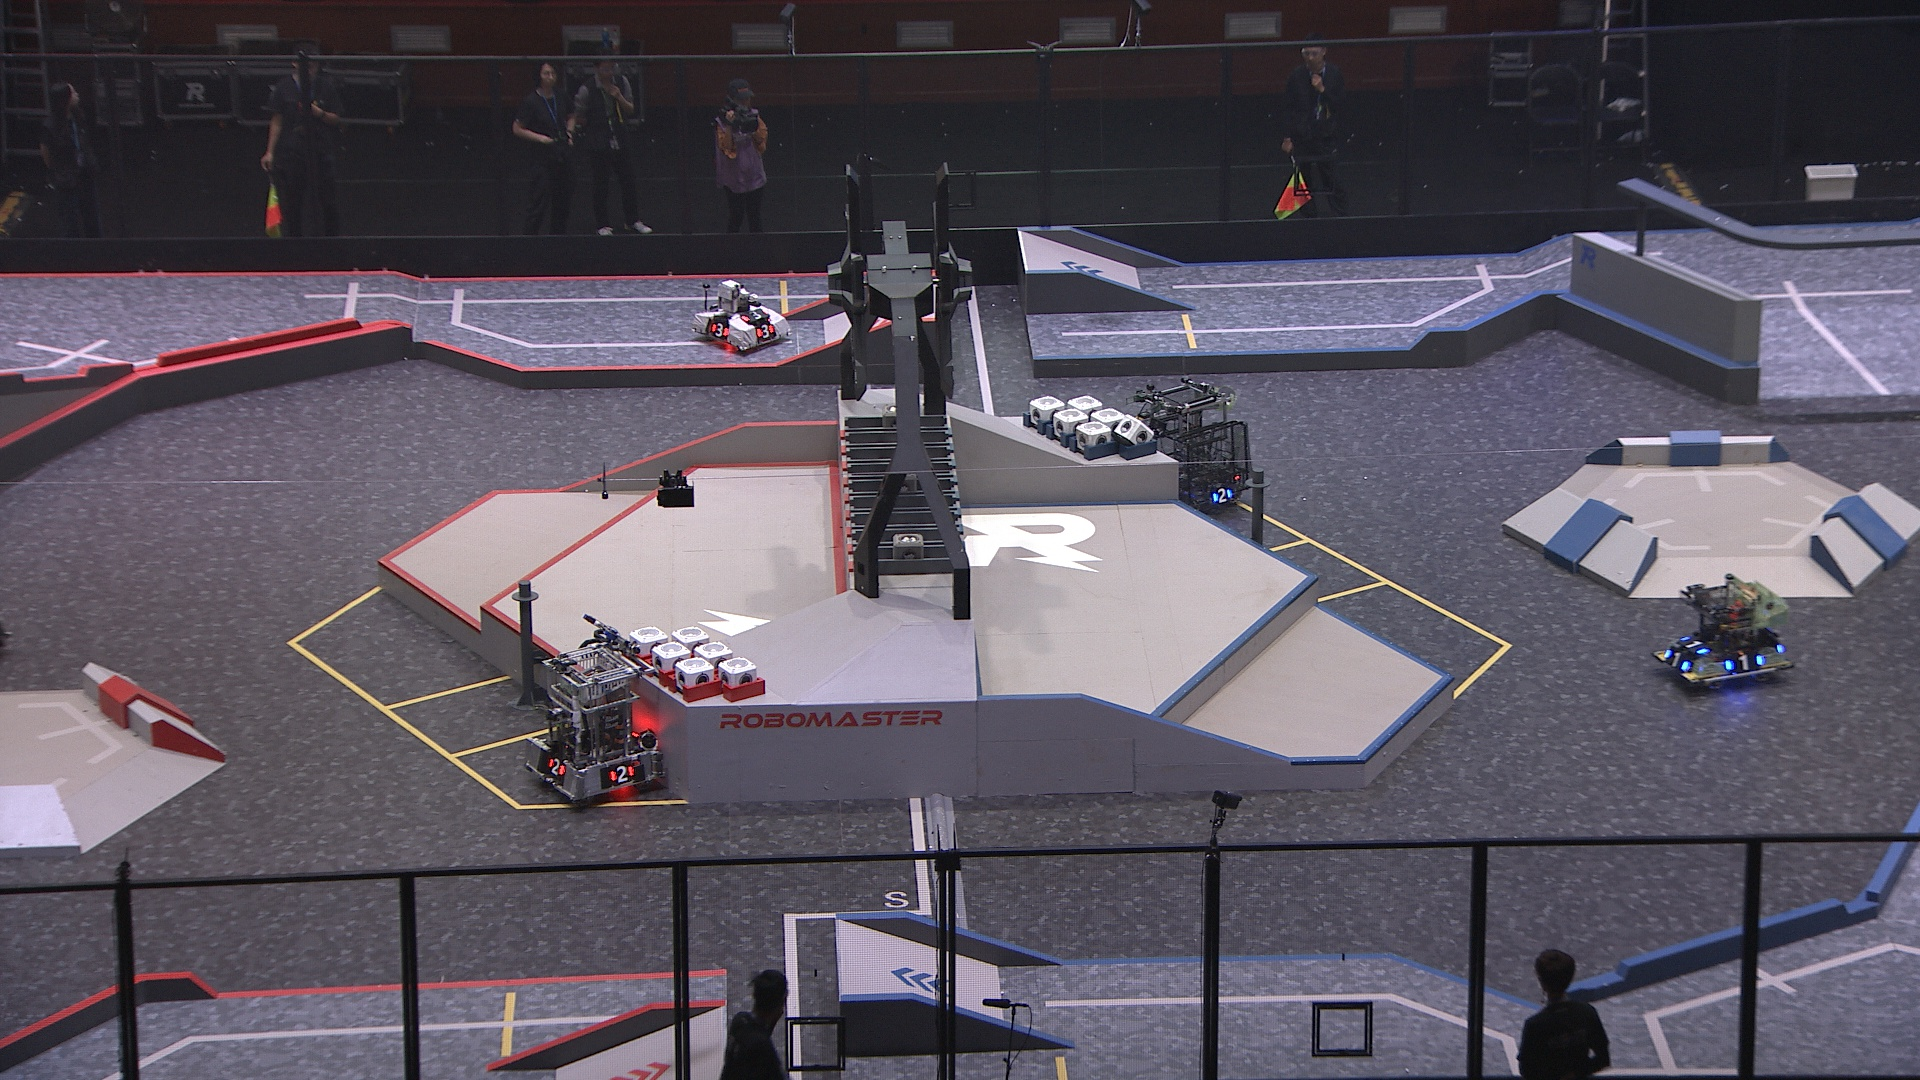armor: (1724, 651, 1764, 671), (1664, 647, 1689, 674), (1681, 636, 1712, 657), (608, 764, 637, 785), (543, 756, 567, 778), (1212, 484, 1237, 504), (741, 306, 769, 323), (709, 322, 732, 338), (756, 322, 775, 339)
car: (522, 638, 669, 808), (1651, 574, 1797, 692), (1134, 378, 1249, 517), (694, 280, 790, 356)
